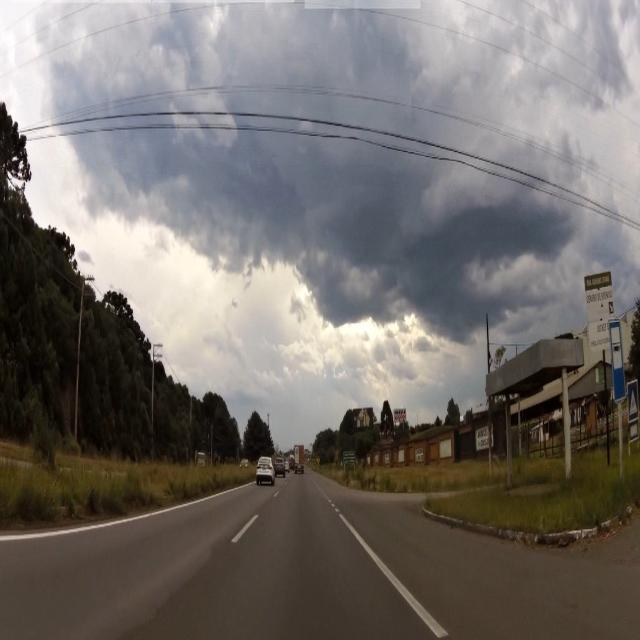S-14: (610, 322, 626, 405)
